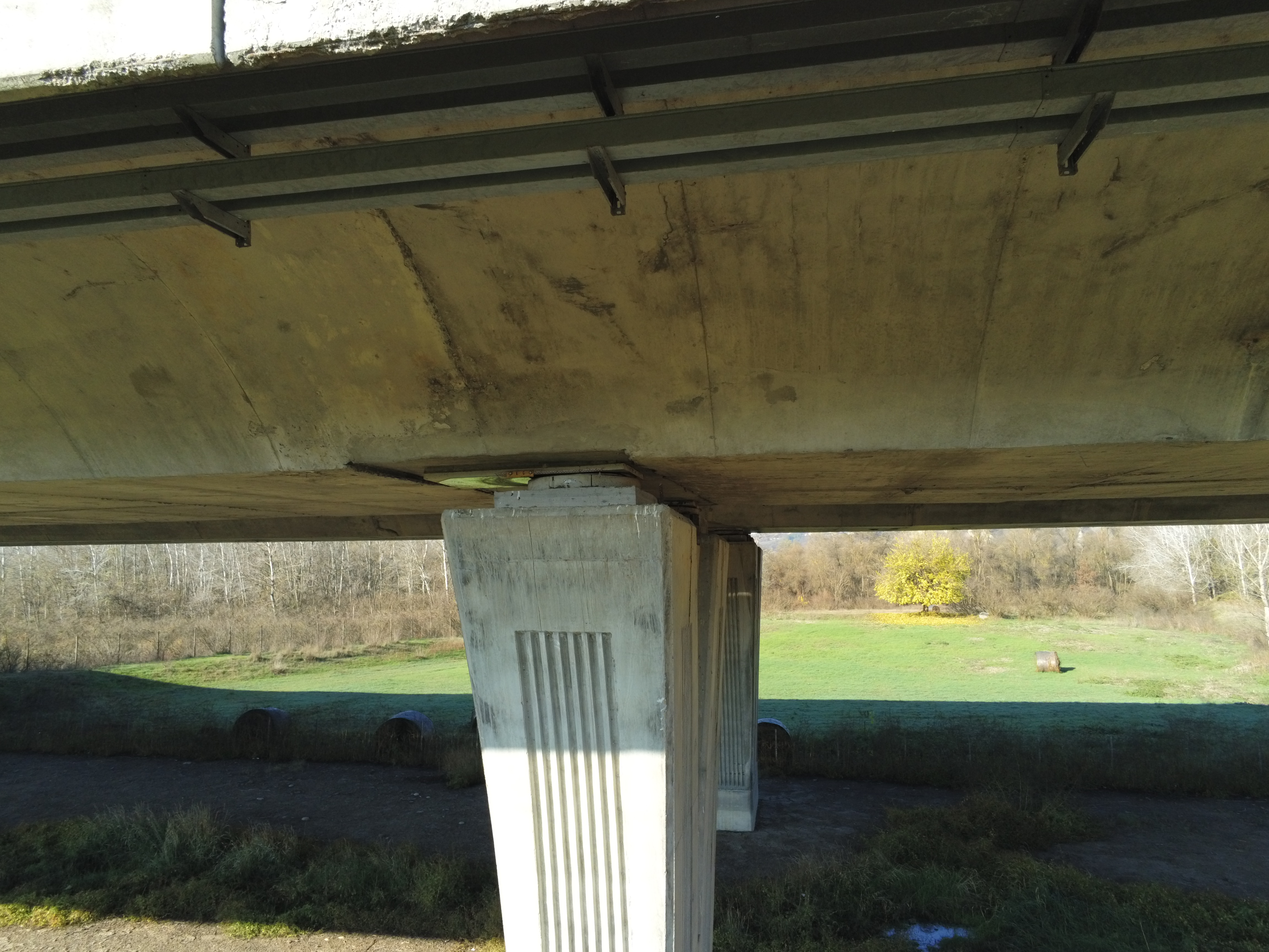Spalling: (33, 0, 675, 98), (368, 515, 401, 538)
